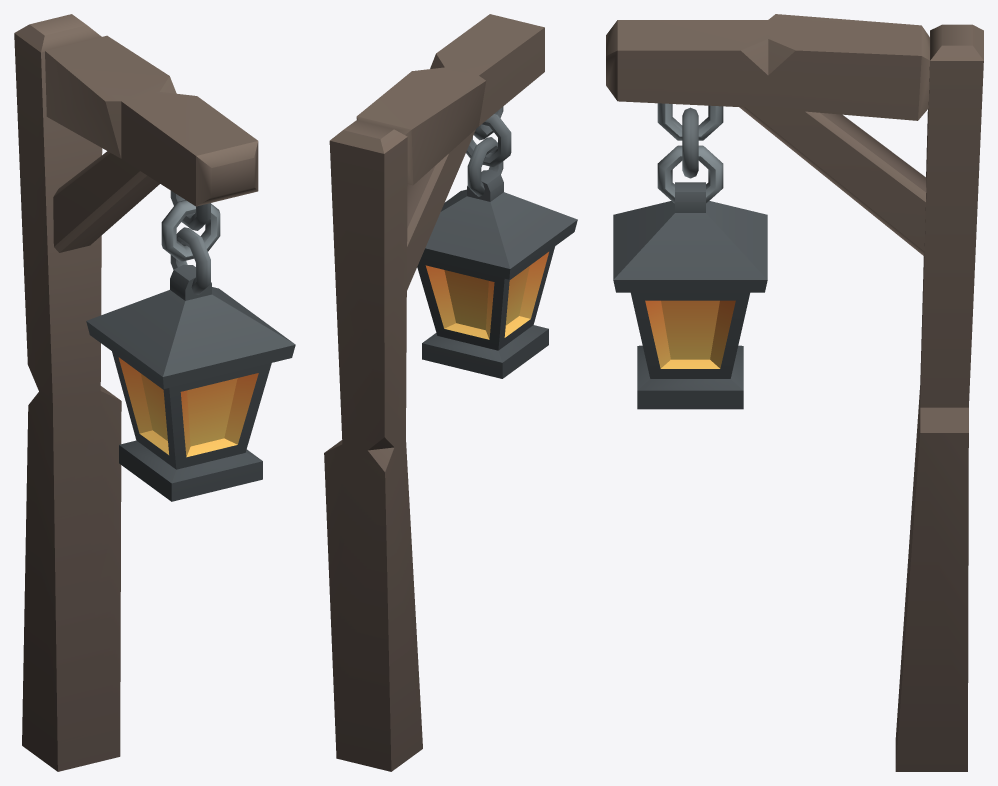
The model's file is lamp.glb.
3 renders of one model, left to right at view 1: azimuth 30°, elevation 25°; view 2: azimuth 150°, elevation 25°; view 3: azimuth 270°, elevation 25°, orthographic. The views are drawn at different scales.
Visible parts, largest first — view 1: post_lantern, post_lantern_lantern; view 2: post_lantern, post_lantern_lantern; view 3: post_lantern, post_lantern_lantern.
Part boxes in pixels (x1=…): post_lantern: x1=14, y1=14, x2=258, y2=771; post_lantern_lantern: x1=86, y1=191, x2=295, y2=501; post_lantern: x1=324, y1=14, x2=544, y2=771; post_lantern_lantern: x1=417, y1=106, x2=577, y2=378; post_lantern: x1=606, y1=14, x2=983, y2=771; post_lantern_lantern: x1=613, y1=103, x2=767, y2=409.
Size of the model in its own units: 0.64 by 3.3 by 1.57.
Materials: 1 (1 with a texture image).
